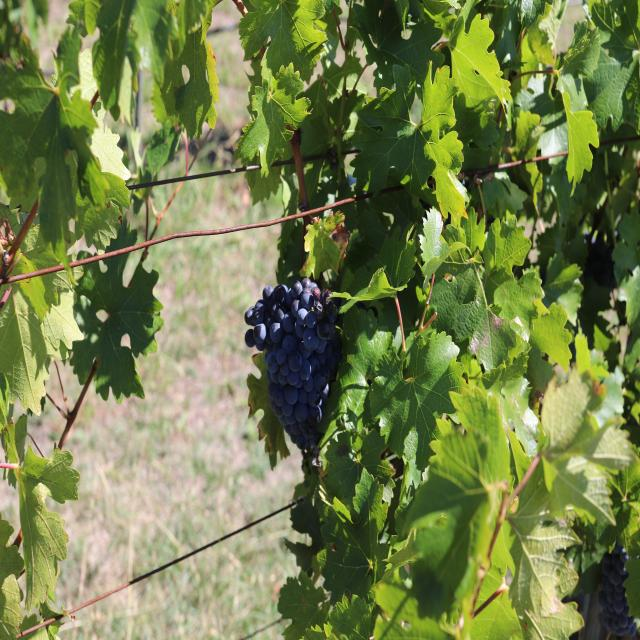grapes: (245, 277, 341, 450), (598, 541, 636, 637)
